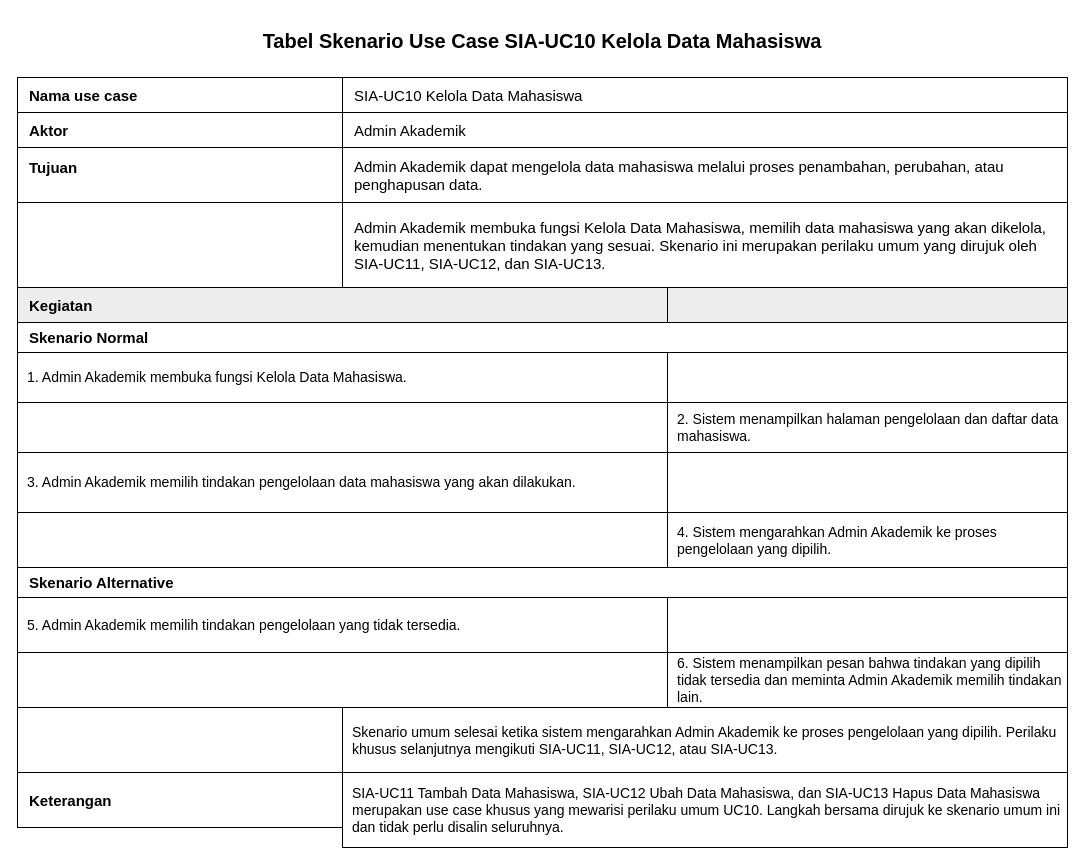
This 1085x865 diagram has some shape labels left out. Each missing label, with the centre of its shape:
Deskripsi: the point at 179,245
Respon sistem: the point at 867,304
Skenario Akhir: the point at 179,739
